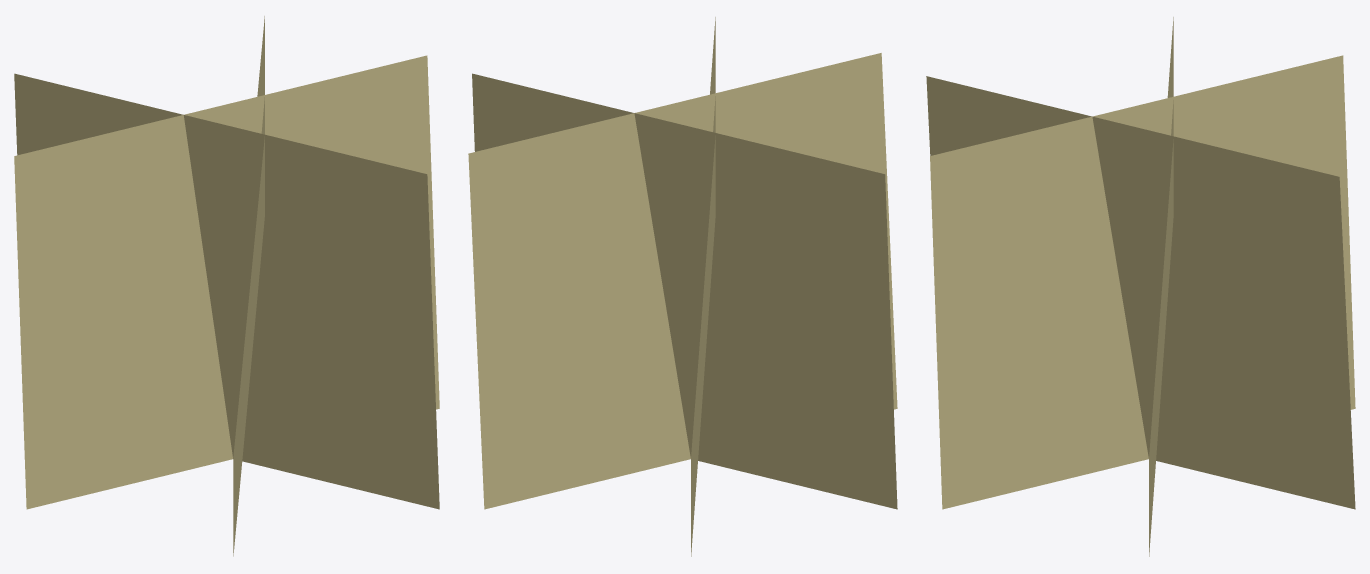
Rendered from grass-tuft-v1.lod1.glb.
3 views of the same model, side by side, from view 1: azimuth 30°, elevation 25°; view 2: azimuth 150°, elevation 25°; view 3: azimuth 270°, elevation 25° (orthographic).
Visible parts, largest first — view 1: grass-tuft-v1.lod1; view 2: grass-tuft-v1.lod1; view 3: grass-tuft-v1.lod1.
Part boxes in pixels (x1,y1,x2,y2): grass-tuft-v1.lod1: (14,16,439,556); grass-tuft-v1.lod1: (468,17,897,556); grass-tuft-v1.lod1: (926,17,1355,556).
Bounding box in the file's own units: 2.7 × 2.15 × 2.43.
